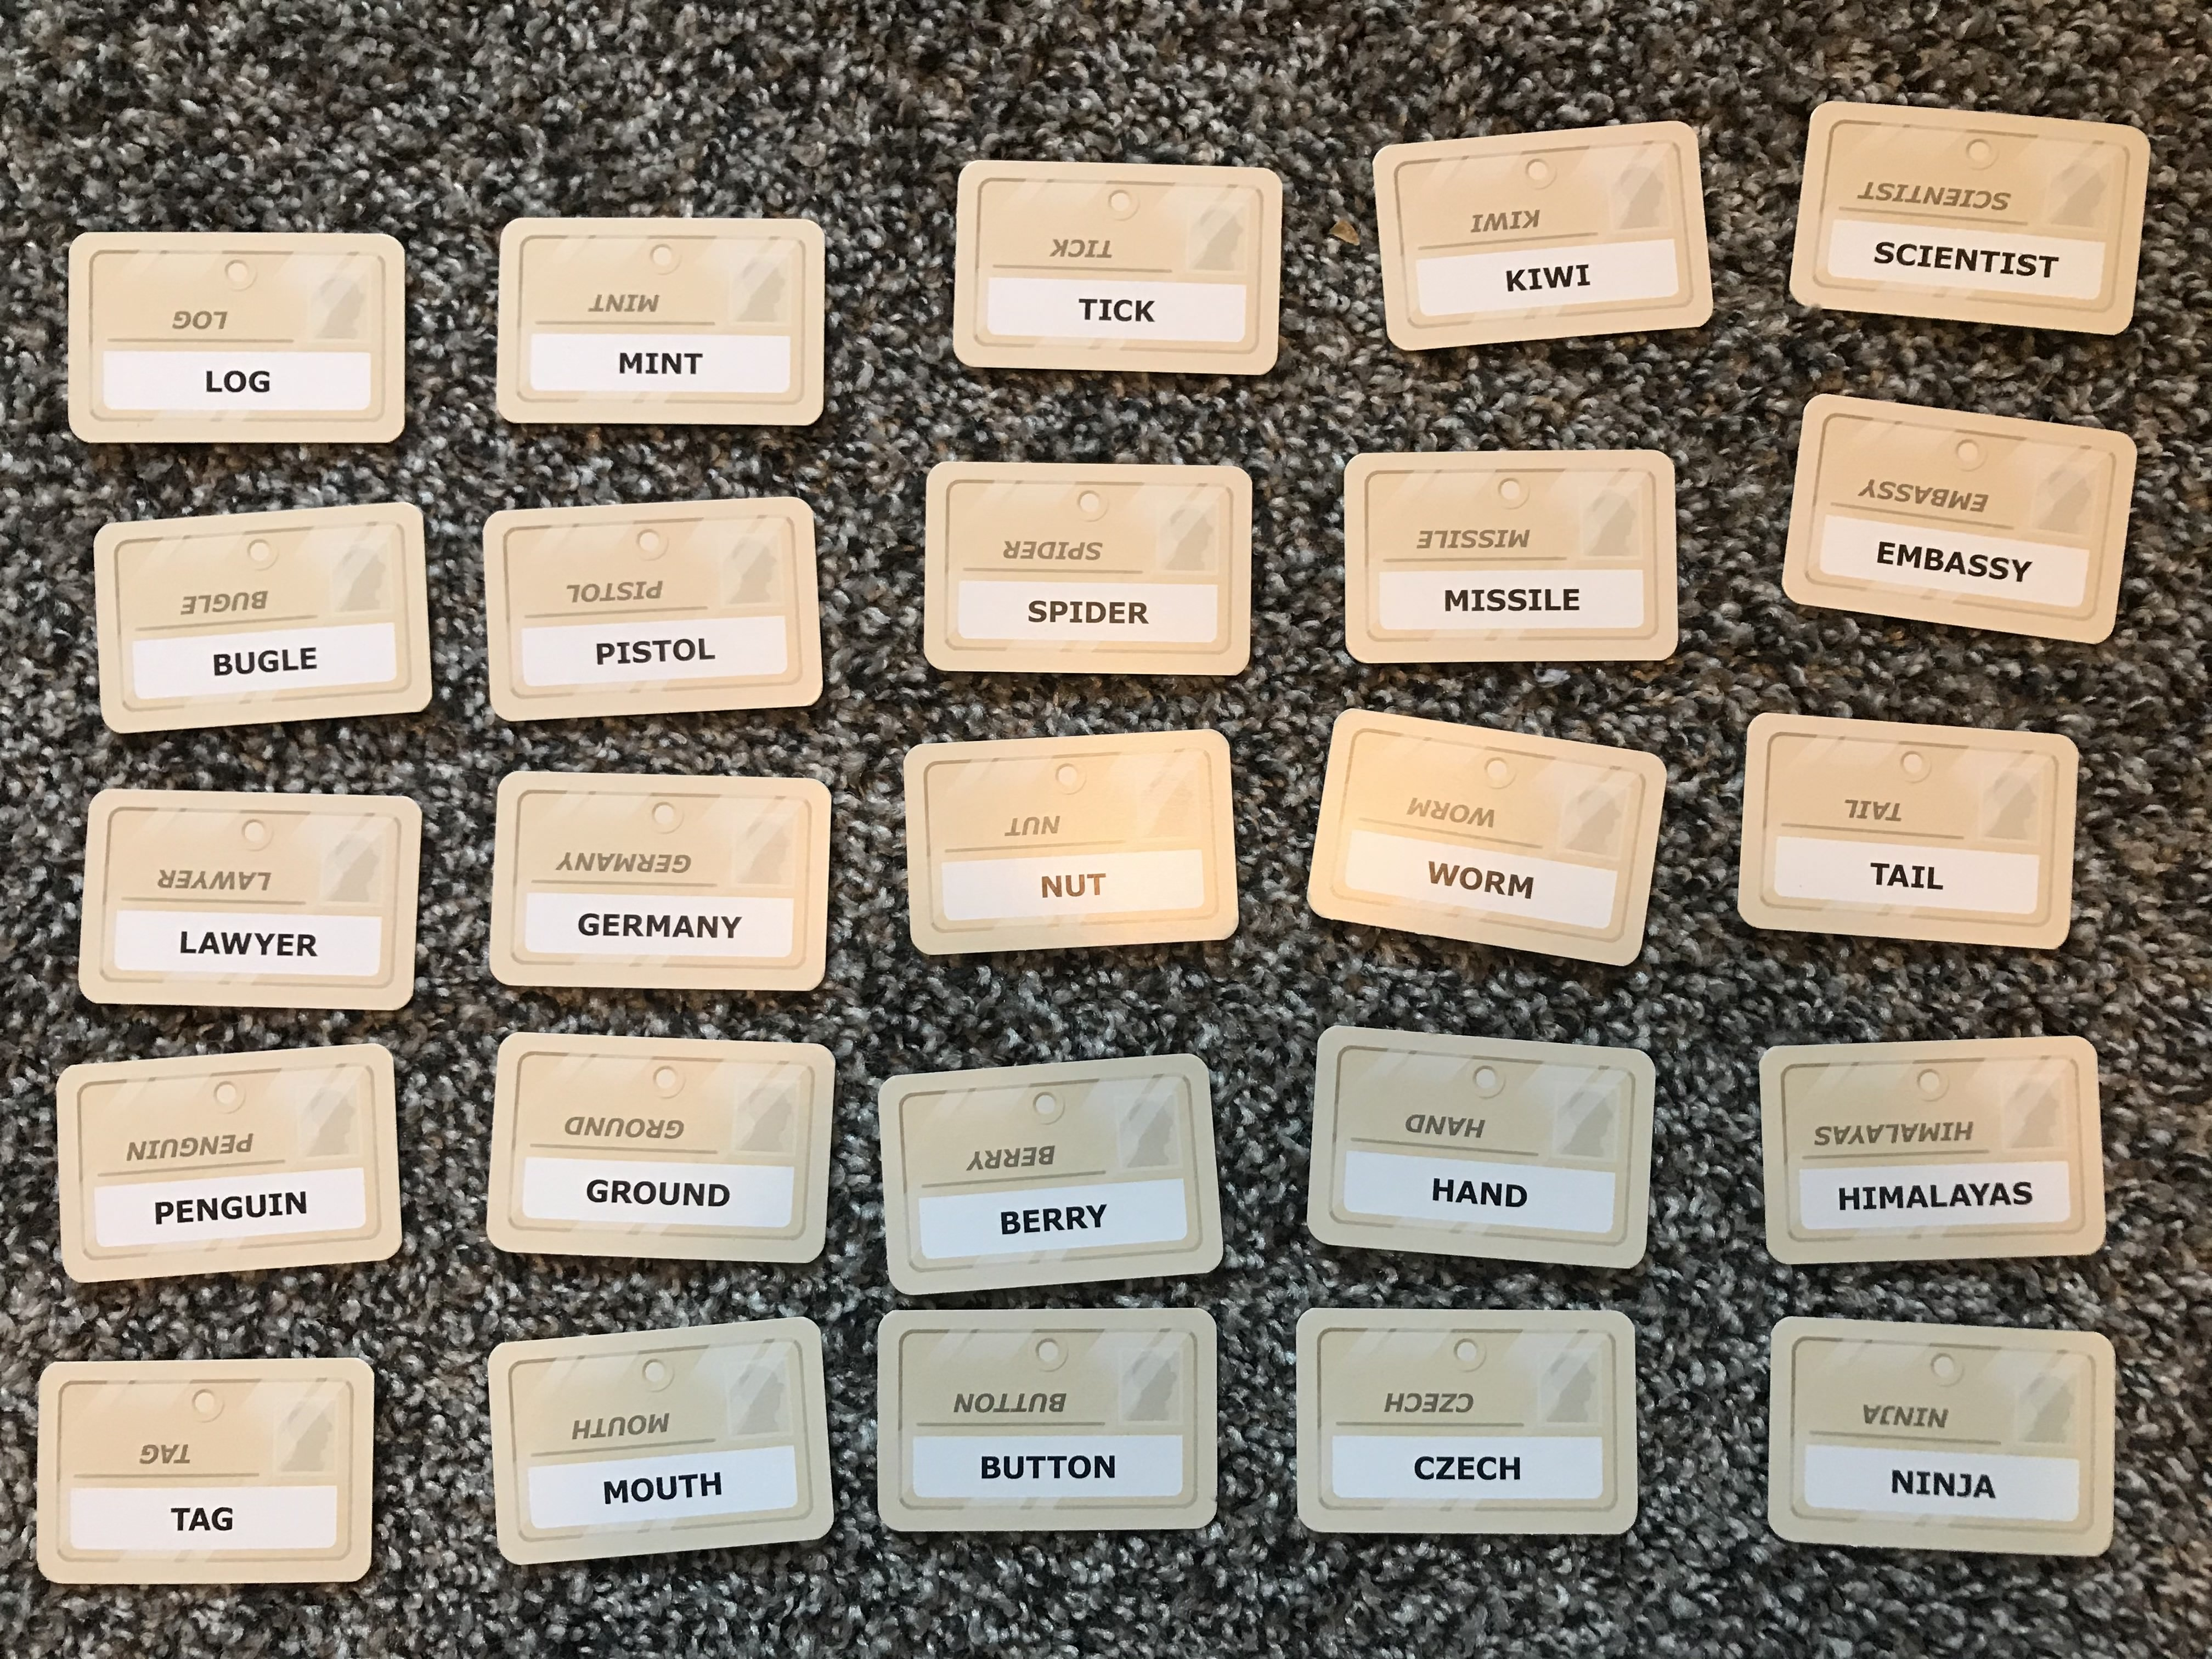A: (1885, 856, 1912, 903), (1940, 538, 1968, 584), (1946, 1178, 1977, 1216), (1973, 1462, 2000, 1506), (185, 1500, 214, 1539), (1451, 1171, 1479, 1211), (1987, 1175, 2012, 1216), (671, 908, 695, 948), (1905, 1178, 1928, 1220), (197, 929, 221, 965)
